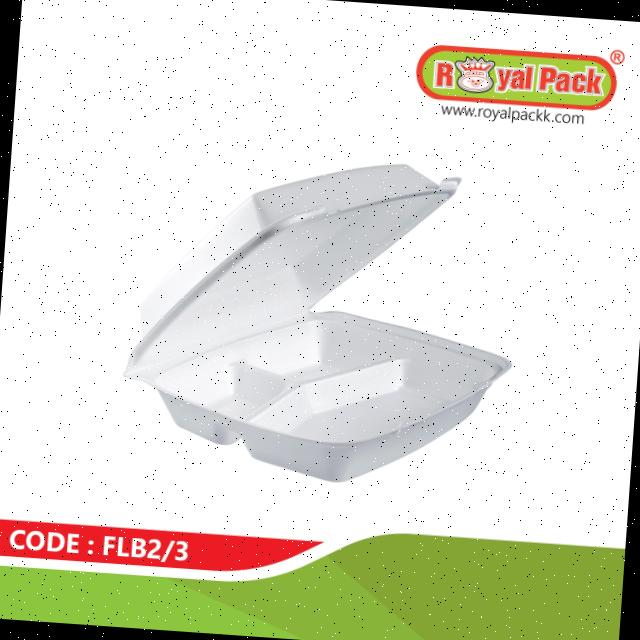styrofoam: (115, 142, 526, 494)
